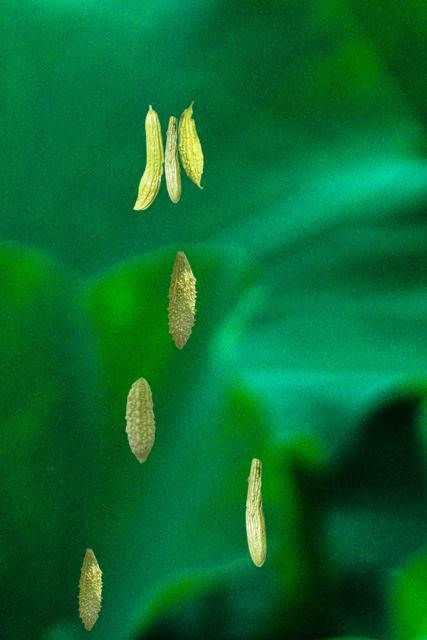ampalaya: (132, 104, 164, 210), (166, 250, 198, 349), (124, 376, 155, 463), (245, 458, 267, 567), (177, 100, 203, 189), (77, 548, 103, 631), (164, 116, 181, 203)
